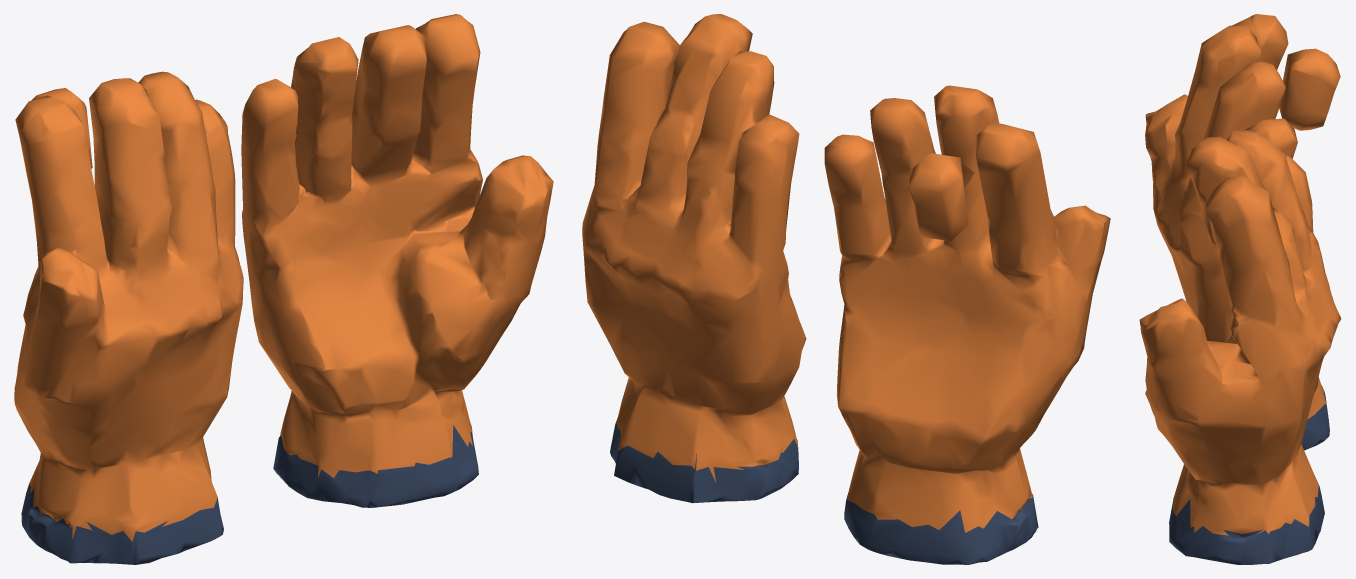
File: safety-gloves.glb
The picture shows the model from 3 angles, left to right: view 1: azimuth 30°, elevation 25°; view 2: azimuth 150°, elevation 25°; view 3: azimuth 270°, elevation 25°; orthographic projection. The views are drawn at different scales.
Visible parts, largest first — view 1: safety-gloves; view 2: safety-gloves; view 3: safety-gloves.
Part boxes in pixels (left/top/right/bottom): safety-gloves: left=14, top=14, right=553, bottom=564; safety-gloves: left=582, top=14, right=1110, bottom=564; safety-gloves: left=1139, top=14, right=1341, bottom=564.
Bounding box in the file's own units: 0.3 × 0.2593 × 0.1219.
